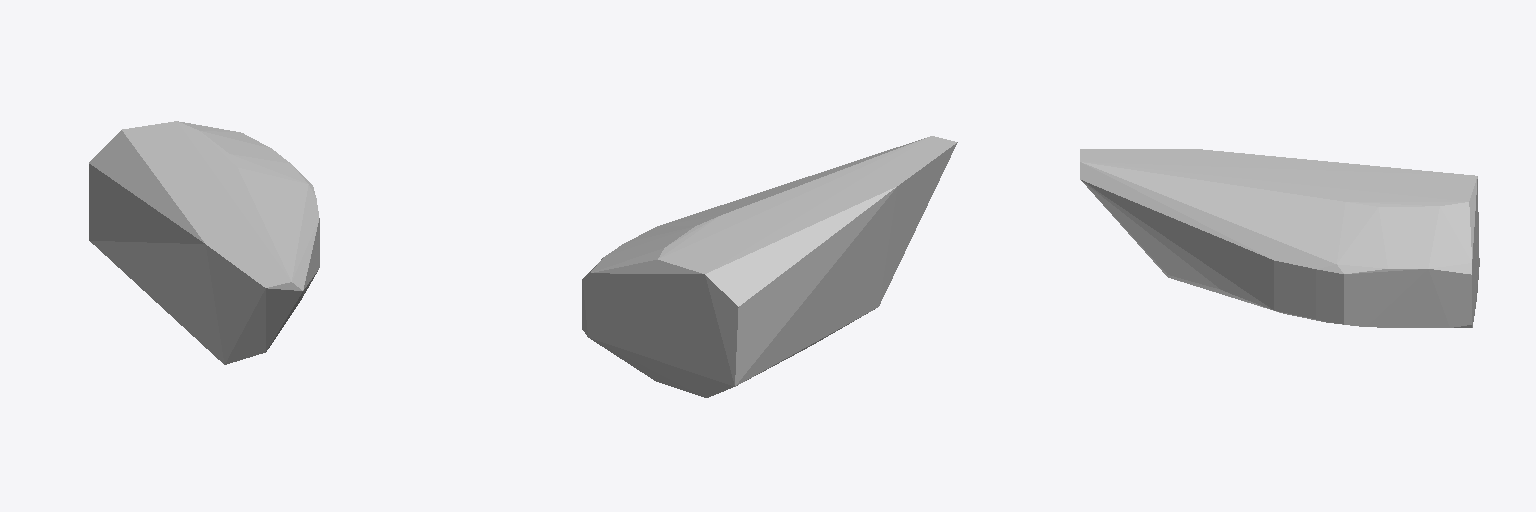
File: solo_lower_leg_v2_right_side_collision_5.obj
3 renders of one model, left to right at view 1: azimuth 30°, elevation 25°; view 2: azimuth 150°, elevation 25°; view 3: azimuth 270°, elevation 25°, orthographic.
Size of the model in its own units: 0.015 by 0.01 by 0.0288.